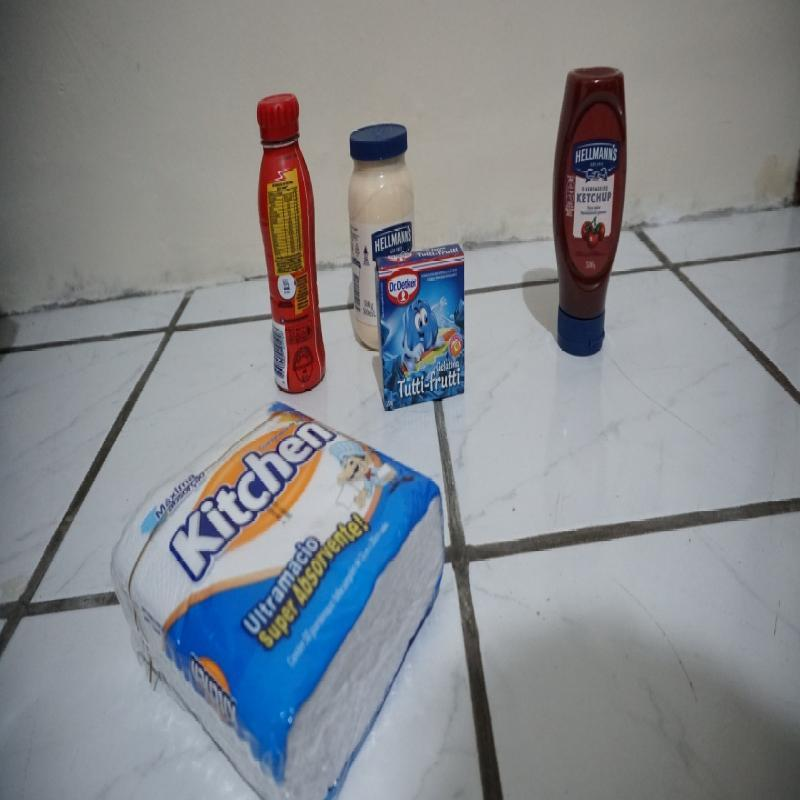Chocolate Milk: (253, 90, 328, 394)
Gelatine: (376, 244, 471, 408)
Ketchup: (550, 64, 628, 356)
Mayonnaise: (350, 118, 415, 350)
Napkin: (106, 401, 448, 800)
